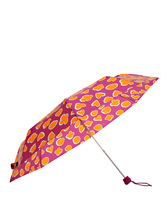other: (7, 72, 161, 192)
